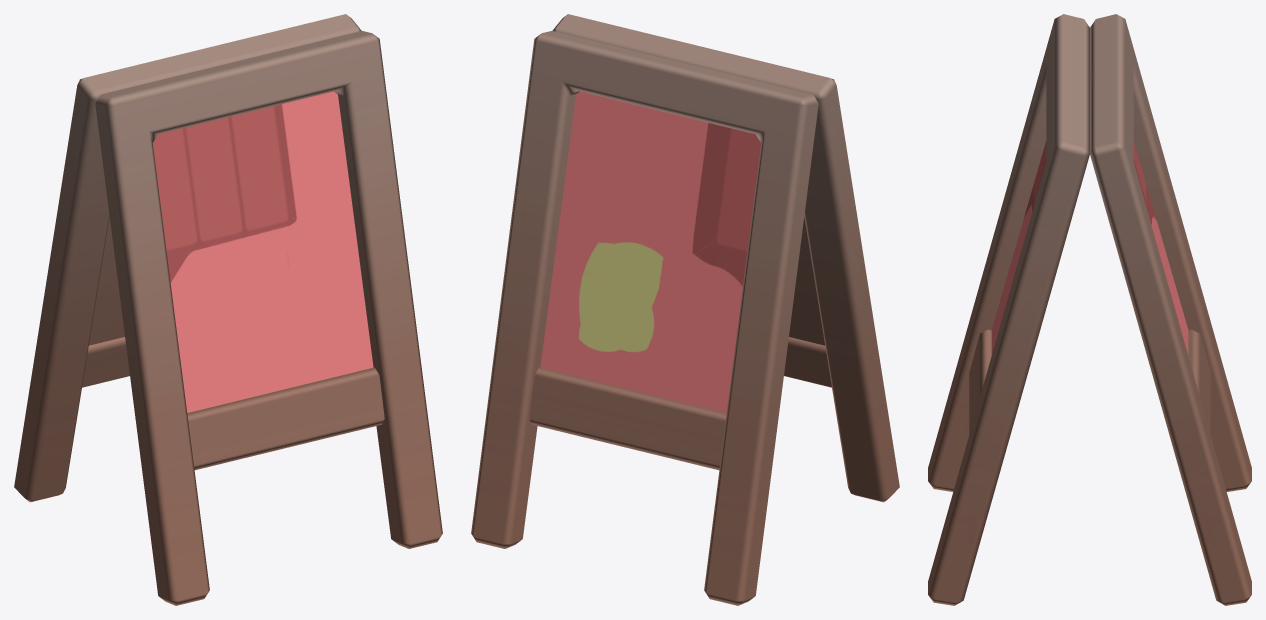
Rendered from CafeSign.fbx.
3 renders of one model, left to right at view 1: azimuth 30°, elevation 25°; view 2: azimuth 150°, elevation 25°; view 3: azimuth 270°, elevation 25°, orthographic.
Visible parts, largest first — view 1: CafeSign; view 2: CafeSign; view 3: CafeSign.
Boxes of the visible parts, x1=… form: CafeSign: x1=14, y1=14, x2=442, y2=605; CafeSign: x1=471, y1=14, x2=899, y2=605; CafeSign: x1=928, y1=14, x2=1251, y2=605.
Size of the model in its own units: 84.84 by 137 by 86.73.
